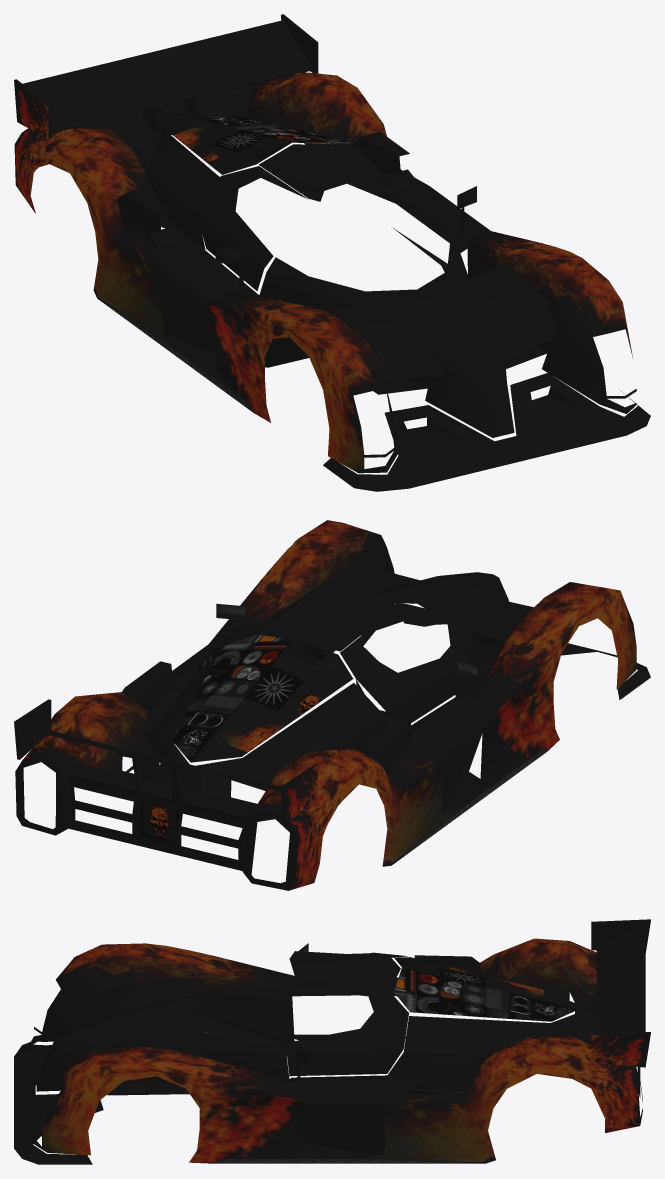
The model's file is car-SUPR_Car10.glb.
3 views of the same model, one above another, from view 1: azimuth 30°, elevation 25°; view 2: azimuth 150°, elevation 25°; view 3: azimuth 270°, elevation 25° (orthographic). The views are drawn at different scales.
Visible parts, largest first — view 1: SUPR_Car10; view 2: SUPR_Car10; view 3: SUPR_Car10.
Part boxes in pixels (bbox=[...]): SUPR_Car10: bbox=[14, 14, 650, 491]; SUPR_Car10: bbox=[14, 520, 650, 890]; SUPR_Car10: bbox=[14, 919, 650, 1164].
Size of the model in its own units: 2 by 1.06 by 4.29.
Materials: 6 (6 with a texture image).
